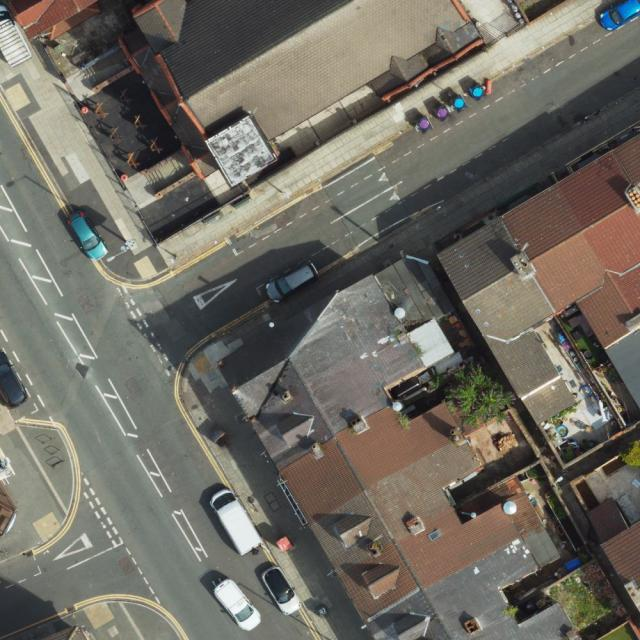roof: (216, 270, 588, 640), (120, 0, 489, 198), (438, 129, 640, 426), (599, 518, 640, 614), (11, 0, 102, 38)
skylight: (428, 527, 443, 543)
